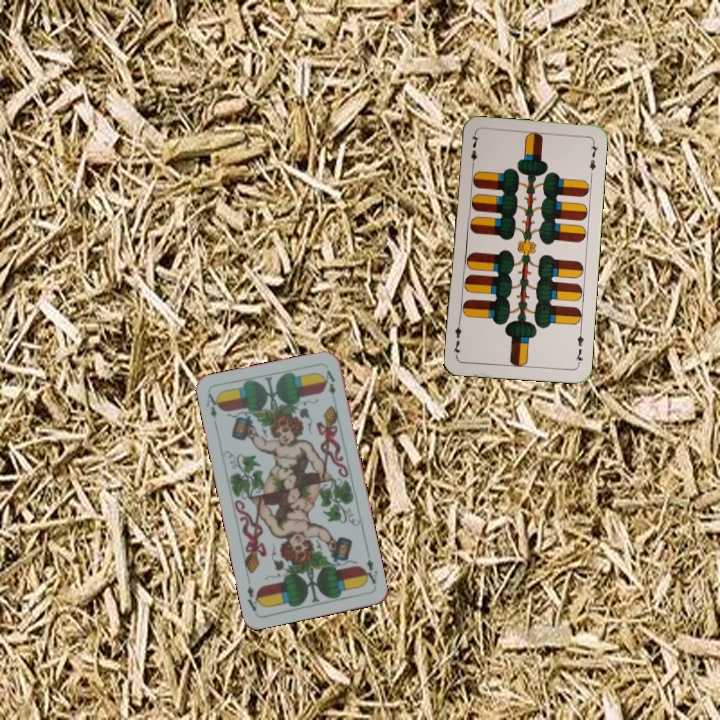E7: (571, 327, 586, 367), (467, 131, 481, 171)
EA: (202, 389, 223, 429), (359, 555, 380, 587)
